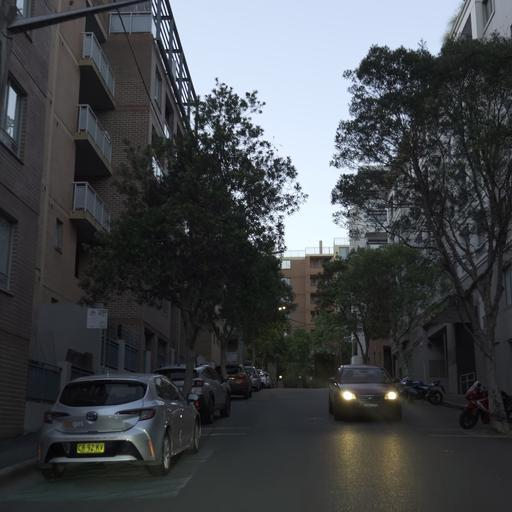Street light: (4, 0, 185, 39)
